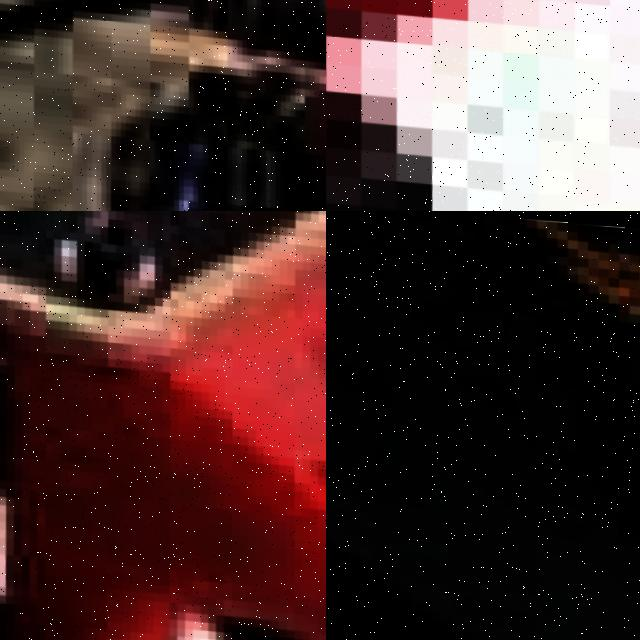drone: (0, 211, 326, 640), (326, 211, 640, 640), (0, 0, 326, 211), (326, 0, 640, 211)
